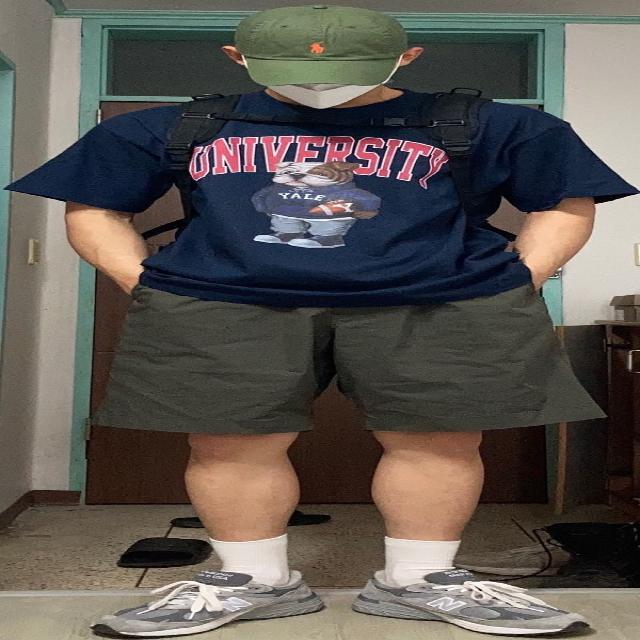shortpants: (122, 277, 598, 434)
shortsleeve: (0, 87, 640, 308)
